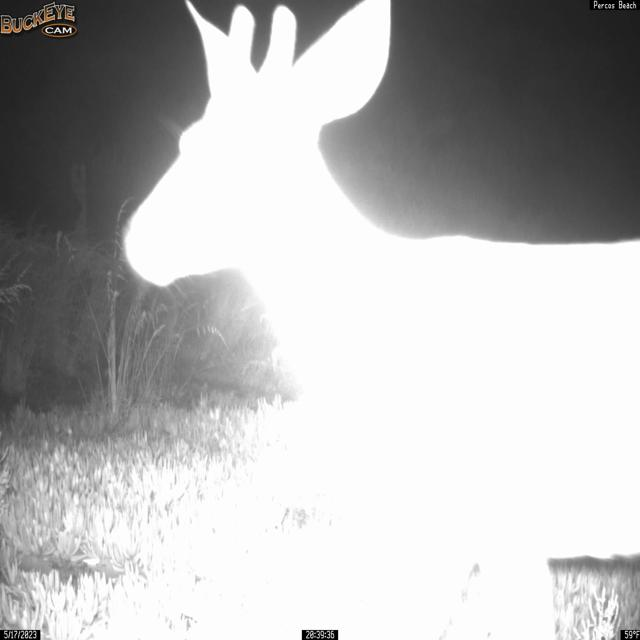deer: (121, 0, 640, 640)
